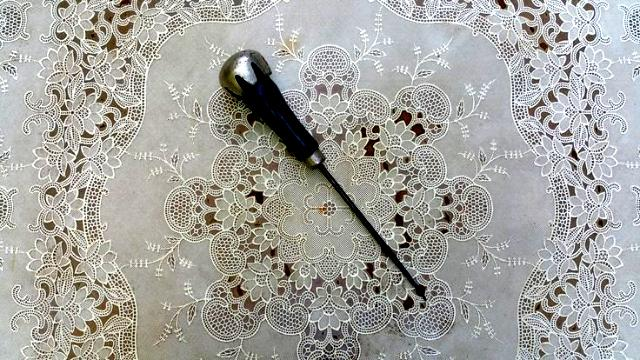ice pick: (220, 49, 428, 303)
